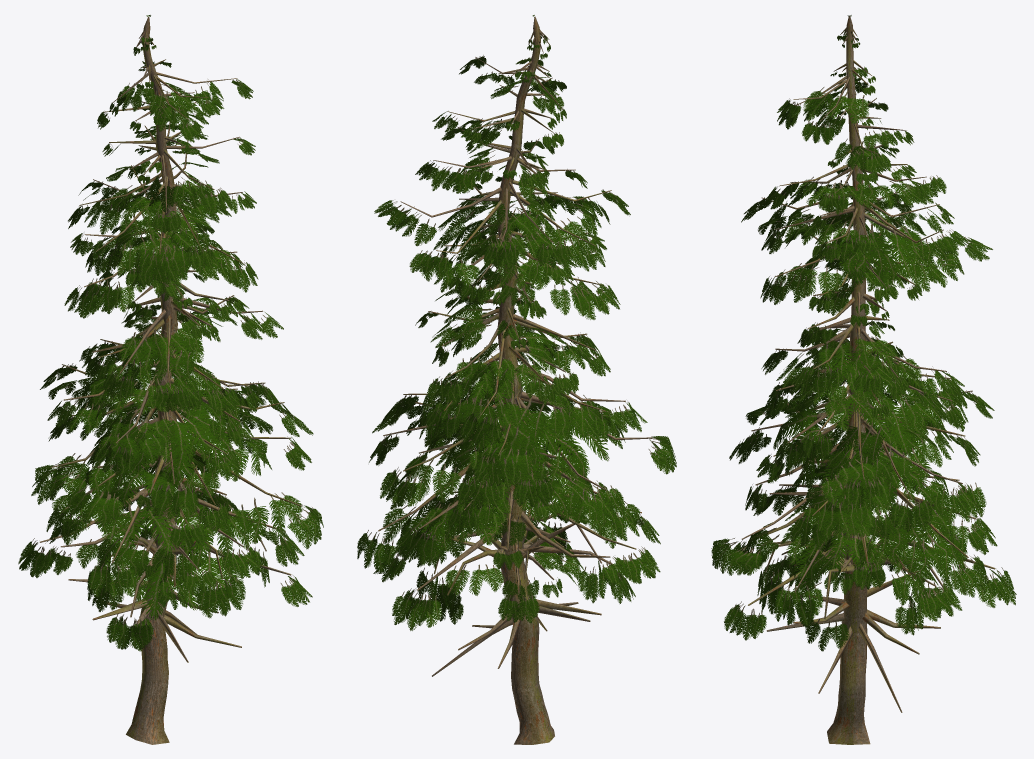
The model's file is SM_Spruce02.fbx.
3 views of the same model, side by side, from view 1: azimuth 30°, elevation 25°; view 2: azimuth 150°, elevation 25°; view 3: azimuth 270°, elevation 25° (orthographic).
Parts seen in each view (by area): view 1: SM_Spruce02_LOD0; view 2: SM_Spruce02_LOD0; view 3: SM_Spruce02_LOD0.
Part boxes in pixels (left/top/right/bottom): SM_Spruce02_LOD0: left=18, top=15, right=323, bottom=744; SM_Spruce02_LOD0: left=357, top=15, right=676, bottom=744; SM_Spruce02_LOD0: left=711, top=15, right=1016, bottom=744.
Size of the model in its own units: 951 by 895 by 2299.
